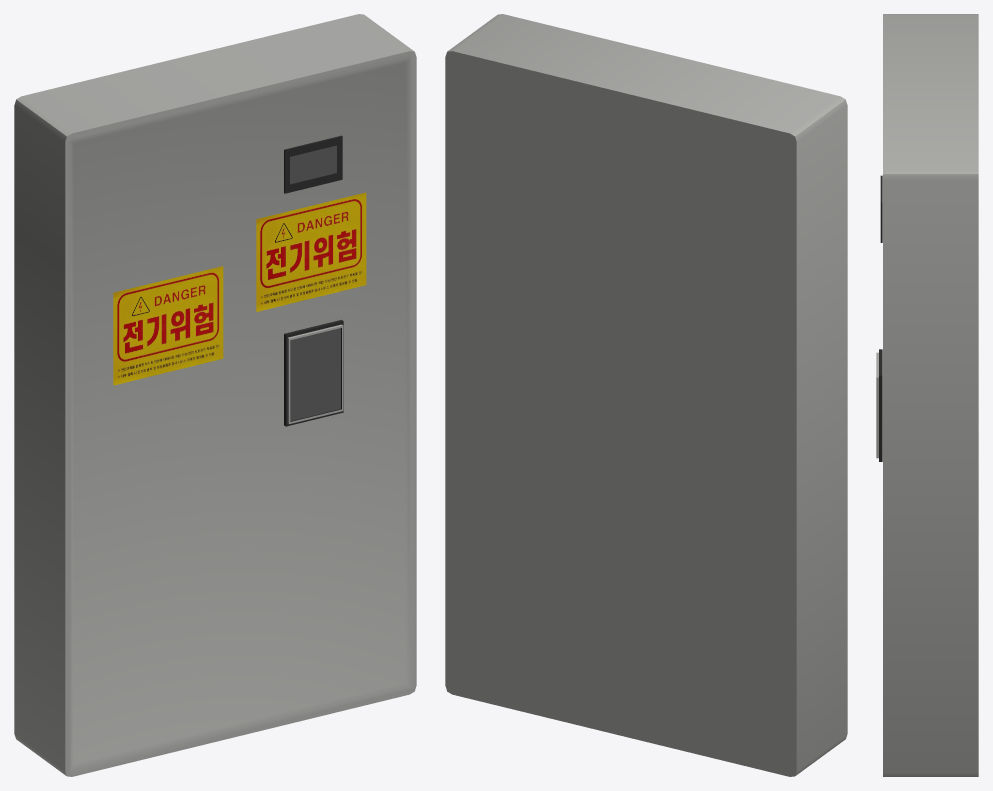
3 views of the same model, side by side, from view 1: azimuth 30°, elevation 25°; view 2: azimuth 150°, elevation 25°; view 3: azimuth 270°, elevation 25° (orthographic). The views are drawn at different scales.
Parts seen in each view (by area): view 1: PLC본체(전원환경감시)005; view 2: PLC본체(전원환경감시)005; view 3: PLC본체(전원환경감시)005.
Part boxes in pixels (x1=…): PLC본체(전원환경감시)005: x1=14, y1=14, x2=416, y2=776; PLC본체(전원환경감시)005: x1=445, y1=14, x2=847, y2=776; PLC본체(전원환경감시)005: x1=876, y1=14, x2=978, y2=776.
Size of the model in its own units: 0.8 by 1.4 by 0.214.
4 materials, 1 textured.
